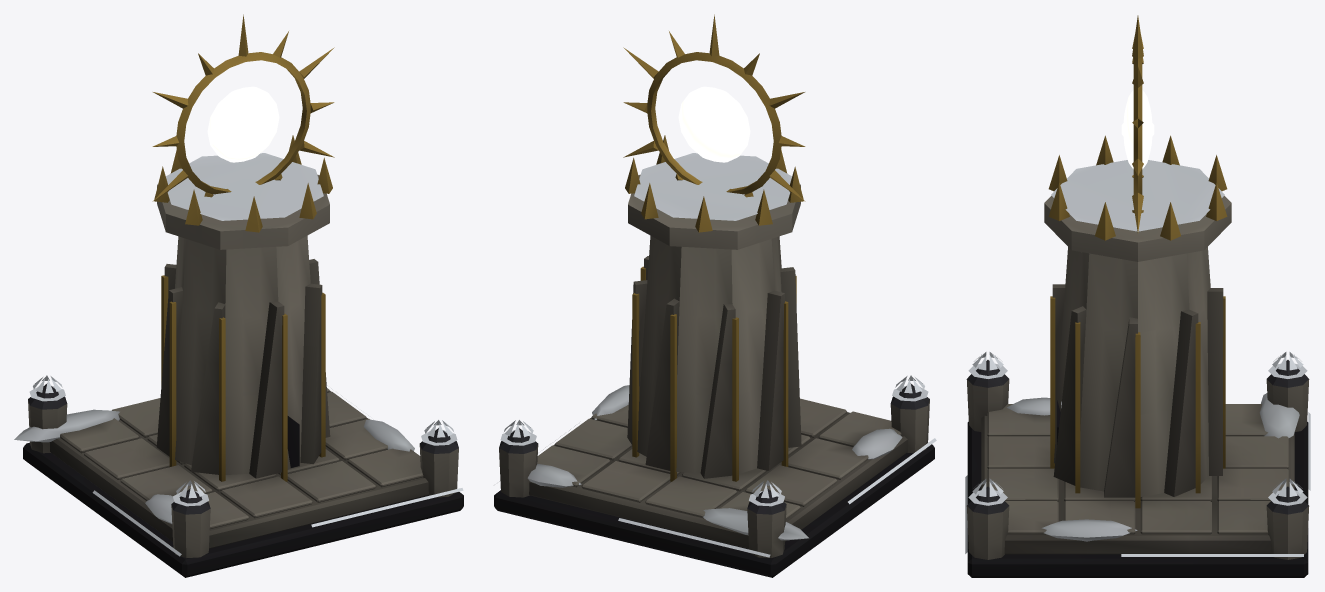
File: alliance-9.glb
The picture shows the model from 3 angles, left to right: view 1: azimuth 30°, elevation 25°; view 2: azimuth 150°, elevation 25°; view 3: azimuth 270°, elevation 25°; orthographic projection. The views are drawn at different scales.
Visible parts, largest first — view 1: aubeval_9_architecture, Anneaux_peint, Lentille; view 2: aubeval_9_architecture, Anneaux_peint, Lentille; view 3: aubeval_9_architecture, Anneaux_peint, Lentille.
Part boxes in pixels (x1=…): aubeval_9_architecture: x1=14, y1=135, x2=463, y2=577; Anneaux_peint: x1=152, y1=14, x2=334, y2=201; Lentille: x1=207, y1=86, x2=279, y2=162; aubeval_9_architecture: x1=494, y1=135, x2=936, y2=577; Anneaux_peint: x1=623, y1=14, x2=805, y2=201; Lentille: x1=678, y1=86, x2=750, y2=162; aubeval_9_architecture: x1=965, y1=135, x2=1310, y2=577; Anneaux_peint: x1=1132, y1=15, x2=1143, y2=232; Lentille: x1=1123, y1=90, x2=1152, y2=169.
Size of the model in its own units: 0.8655 by 1.28 by 0.811.
